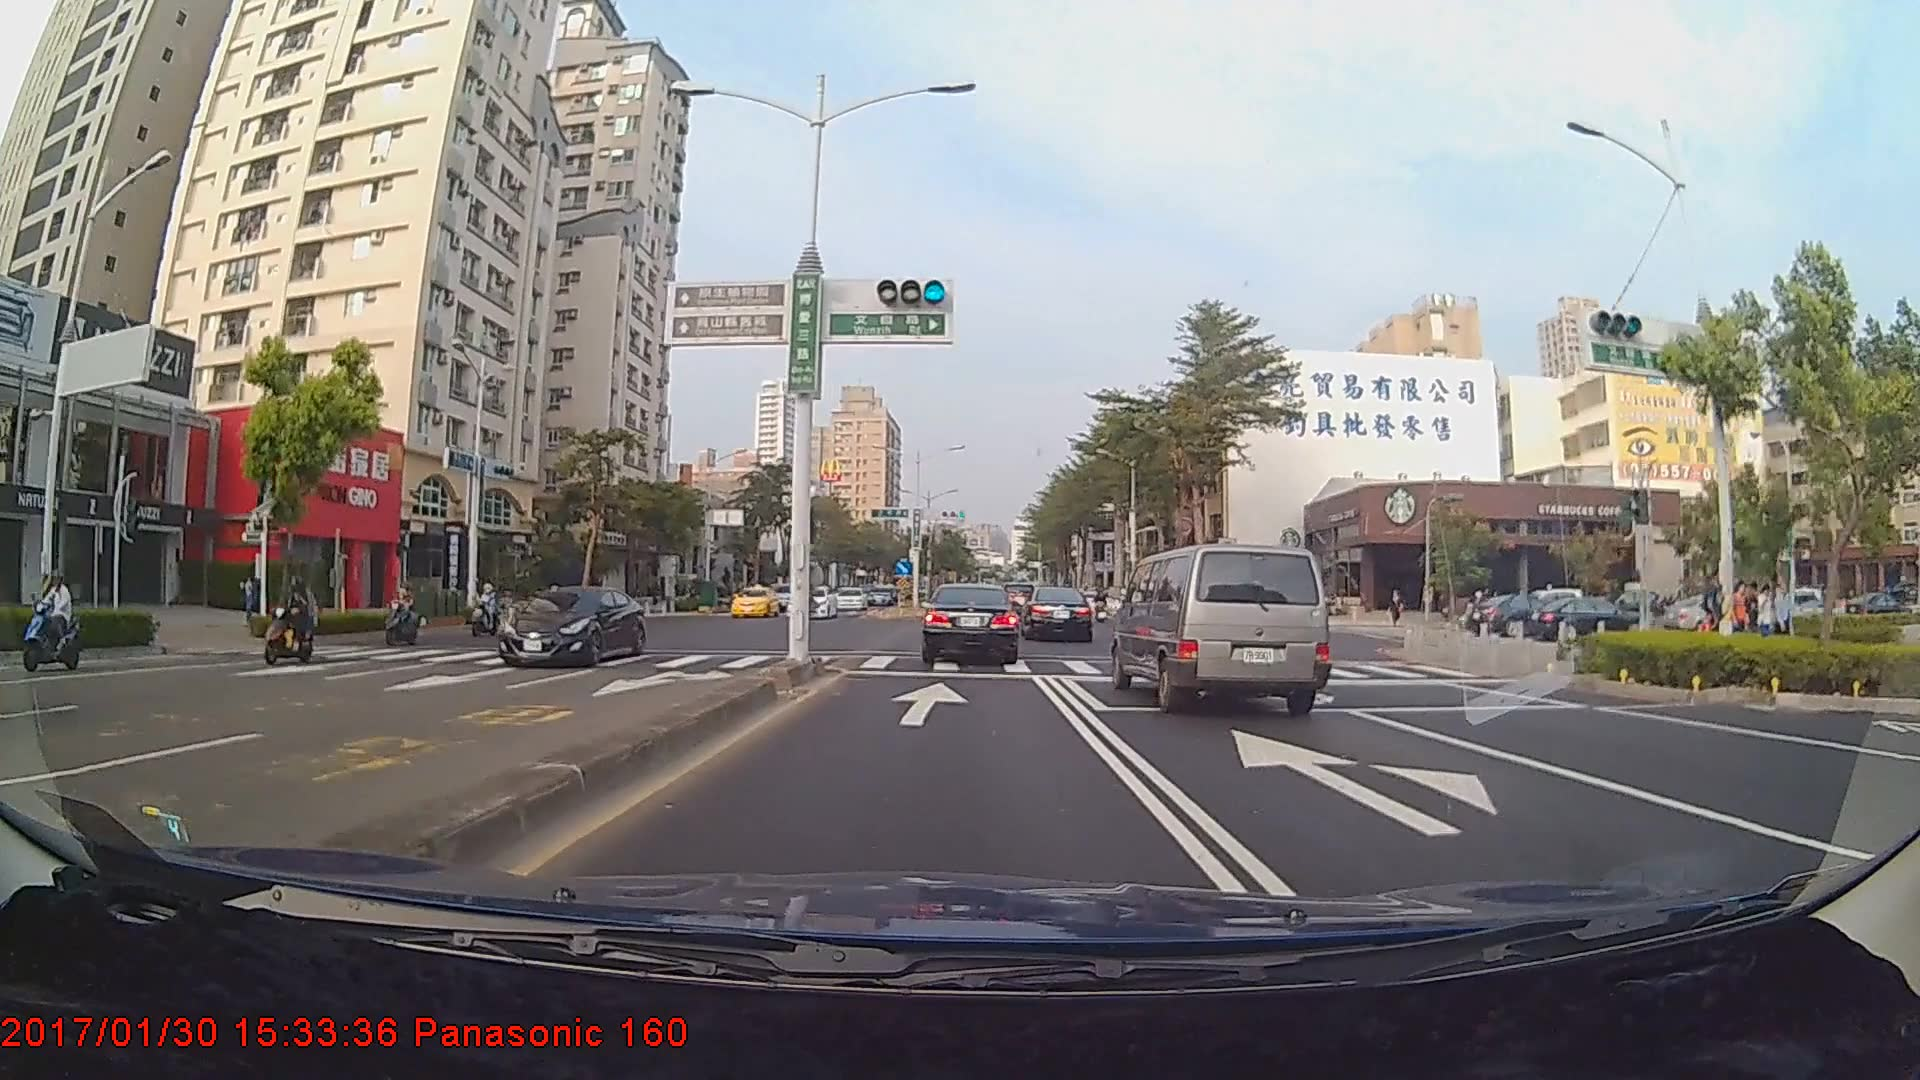pedestrian: (1704, 570, 1728, 651), (1757, 582, 1777, 651), (1773, 582, 1795, 652), (1730, 582, 1751, 647)
rider: (253, 571, 325, 669), (24, 571, 91, 672), (383, 578, 426, 651), (469, 574, 508, 632)
vehicle: (1110, 539, 1332, 714), (499, 585, 646, 663), (919, 582, 1021, 669), (1018, 586, 1093, 643), (1472, 592, 1555, 636), (727, 582, 780, 617), (787, 583, 837, 618), (832, 585, 866, 611)
